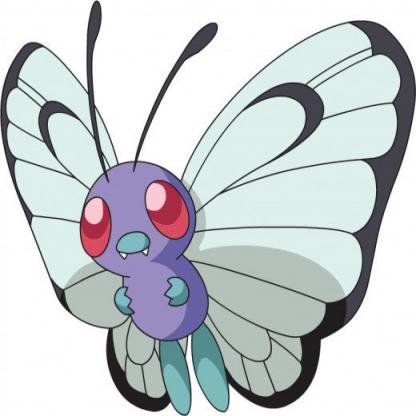Butterfree: (3, 6, 416, 414)
